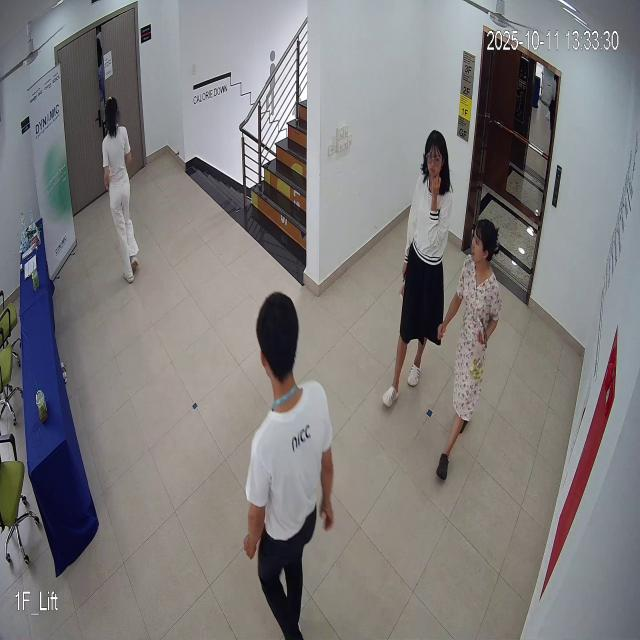face: (465, 212, 500, 286), (422, 120, 448, 196)
